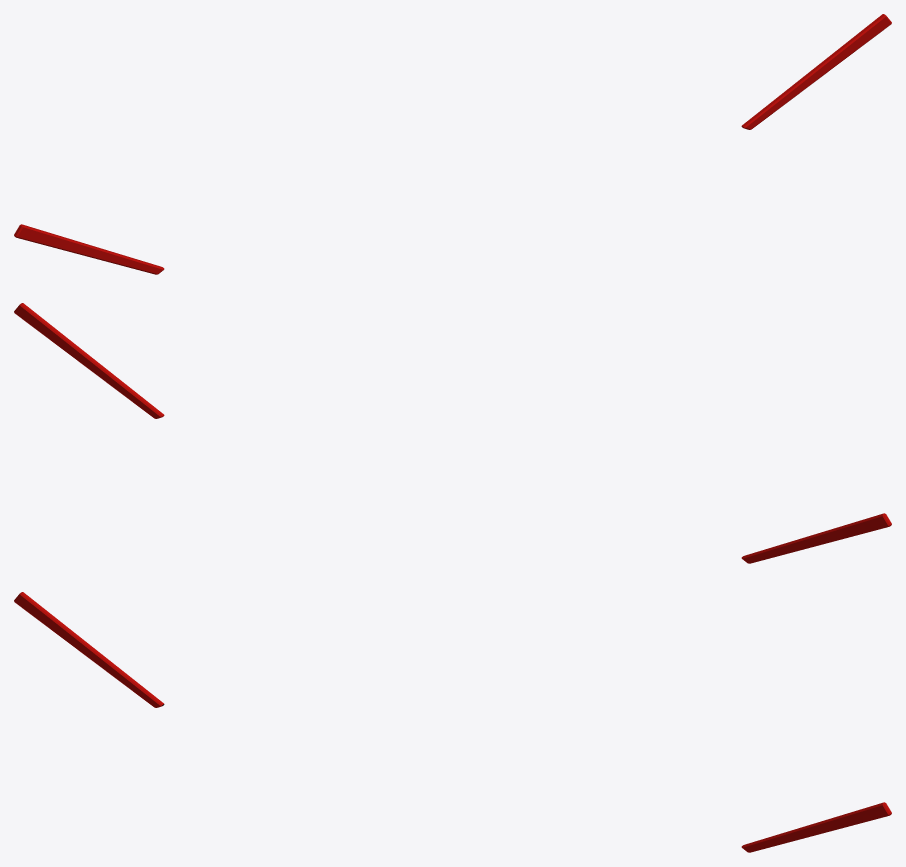
Rendered from sector_warning.obj.
The picture shows the model from 3 angles, top to bottom: view 1: azimuth 30°, elevation 25°; view 2: azimuth 150°, elevation 25°; view 3: azimuth 330°, elevation 25°; orthographic projection.
Parts seen in each view (by area): view 1: sector_warning; view 2: sector_warning; view 3: sector_warning.
Boxes of the visible parts, bbox=[...] form: sector_warning: bbox=[14, 14, 891, 274]; sector_warning: bbox=[14, 303, 891, 563]; sector_warning: bbox=[14, 592, 891, 852].
Bounding box in the file's own units: 2.19 × 0.1948 × 0.014.
Materials: 1 (1 with a texture image).
